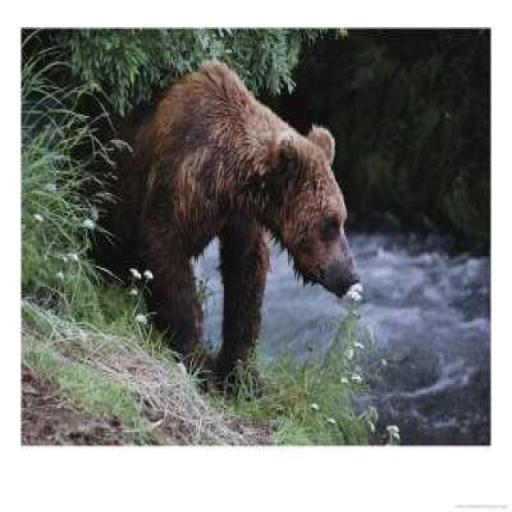Bear: (86, 60, 362, 400)
